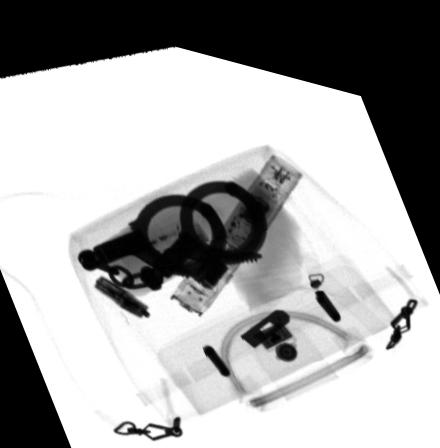Baton: (169, 140, 302, 306)
HandCuffs: (74, 168, 268, 283)
Lighter: (113, 212, 213, 270)
